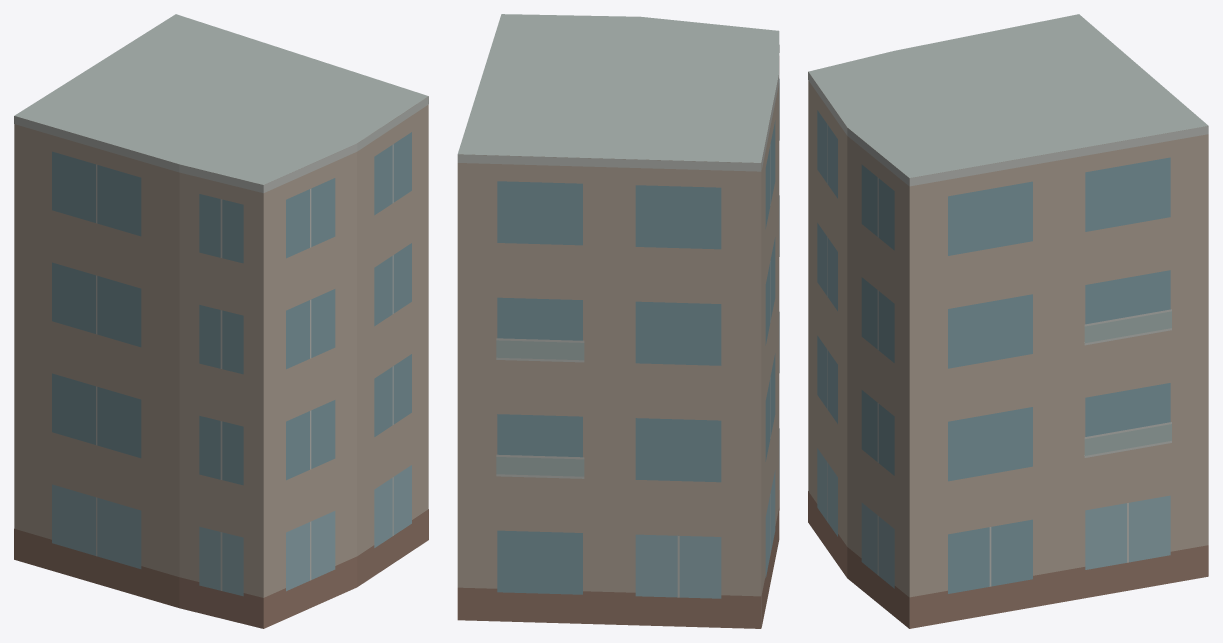
Rendered from survey-upis-32958122.glb.
3 views of the same model, side by side, from view 1: azimuth 30°, elevation 25°; view 2: azimuth 150°, elevation 25°; view 3: azimuth 270°, elevation 25° (orthographic). The views are drawn at different scales.
Parts seen in each view (by area): view 1: survey-upis-32958122.tmp; view 2: survey-upis-32958122.tmp; view 3: survey-upis-32958122.tmp.
Boxes of the visible parts, x1,y1,x2,y2 form: survey-upis-32958122.tmp: [14, 14, 428, 628]; survey-upis-32958122.tmp: [457, 14, 779, 628]; survey-upis-32958122.tmp: [808, 14, 1208, 628].
Bounding box in the file's own units: 10.32 × 13.2 × 10.64.
